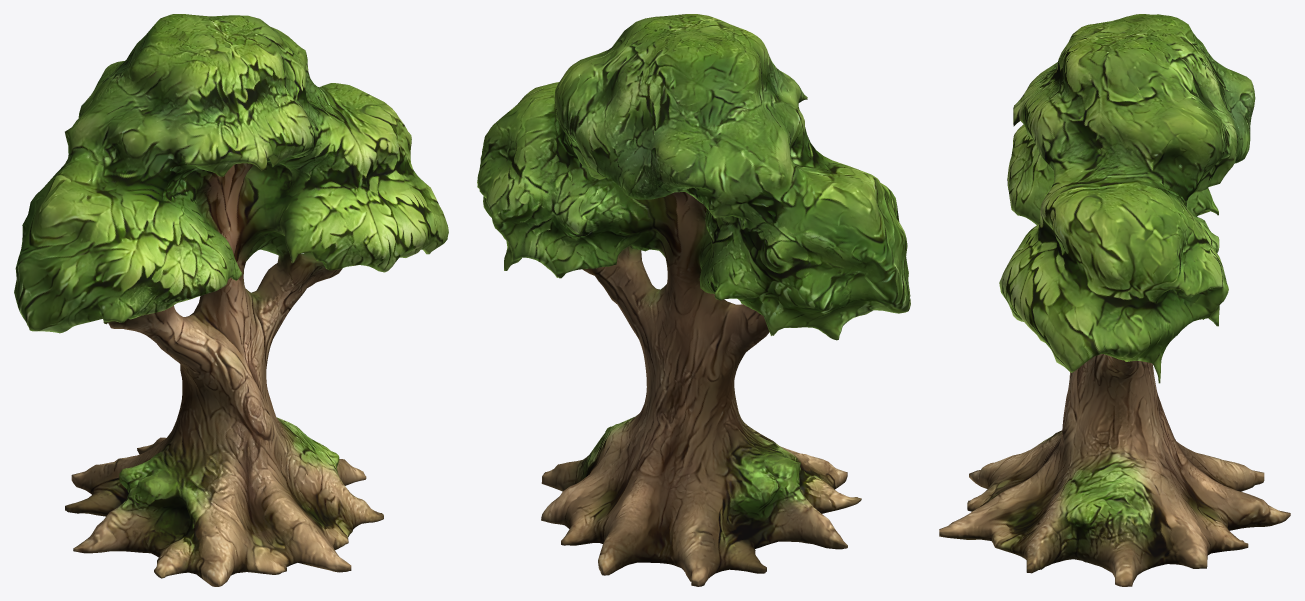
File: tree-jungle-hyper3d.glb
3 renders of one model, left to right at view 1: azimuth 30°, elevation 25°; view 2: azimuth 150°, elevation 25°; view 3: azimuth 270°, elevation 25°, orthographic.
Visible parts, largest first — view 1: model; view 2: model; view 3: model.
Boxes of the visible parts, x1,y1,x2,y2 form: model: [14, 14, 448, 586]; model: [477, 14, 910, 586]; model: [939, 14, 1290, 586].
Size of the model in its own units: 1.63 by 1.88 by 1.21.
1 material, 1 textured.
